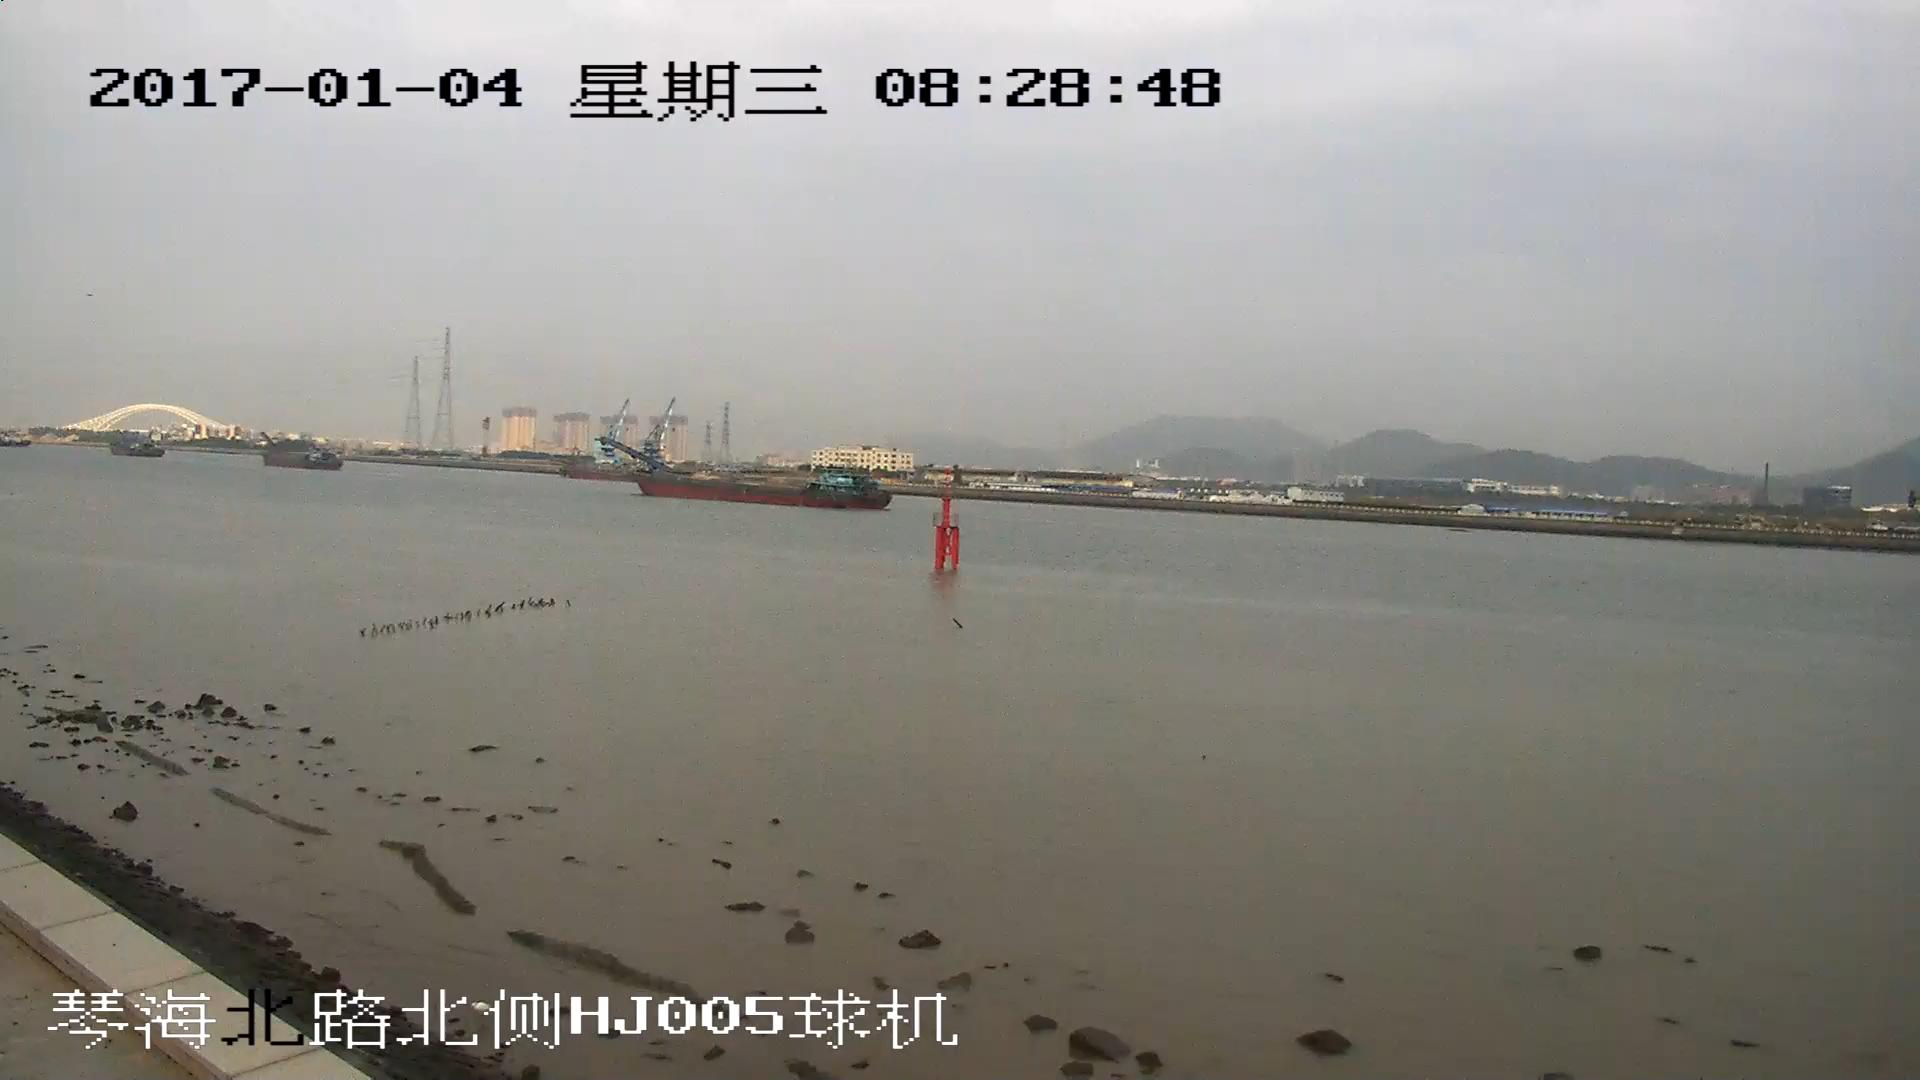bulk cargo carrier: (599, 437, 887, 510)
